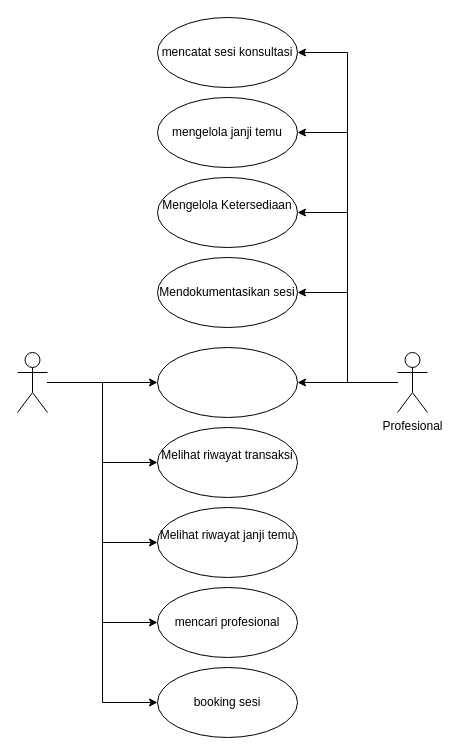
The diagram is 460 pixels wide and 755 high, and some of its shapes have lost their labels. The centre of each missing label's shape, as x and y in pixels:
Klien: (32,382)
Mengelola Profil: (227,382)
